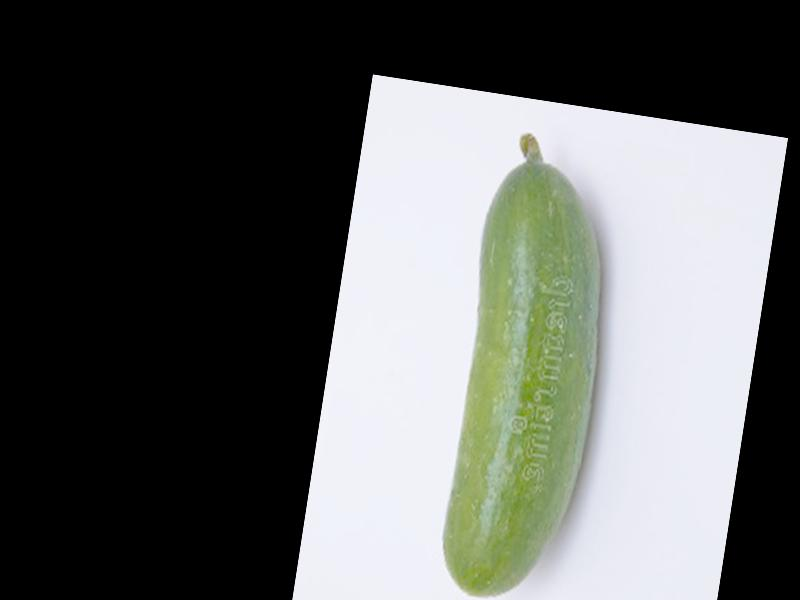Cucumber: (428, 129, 631, 600)
